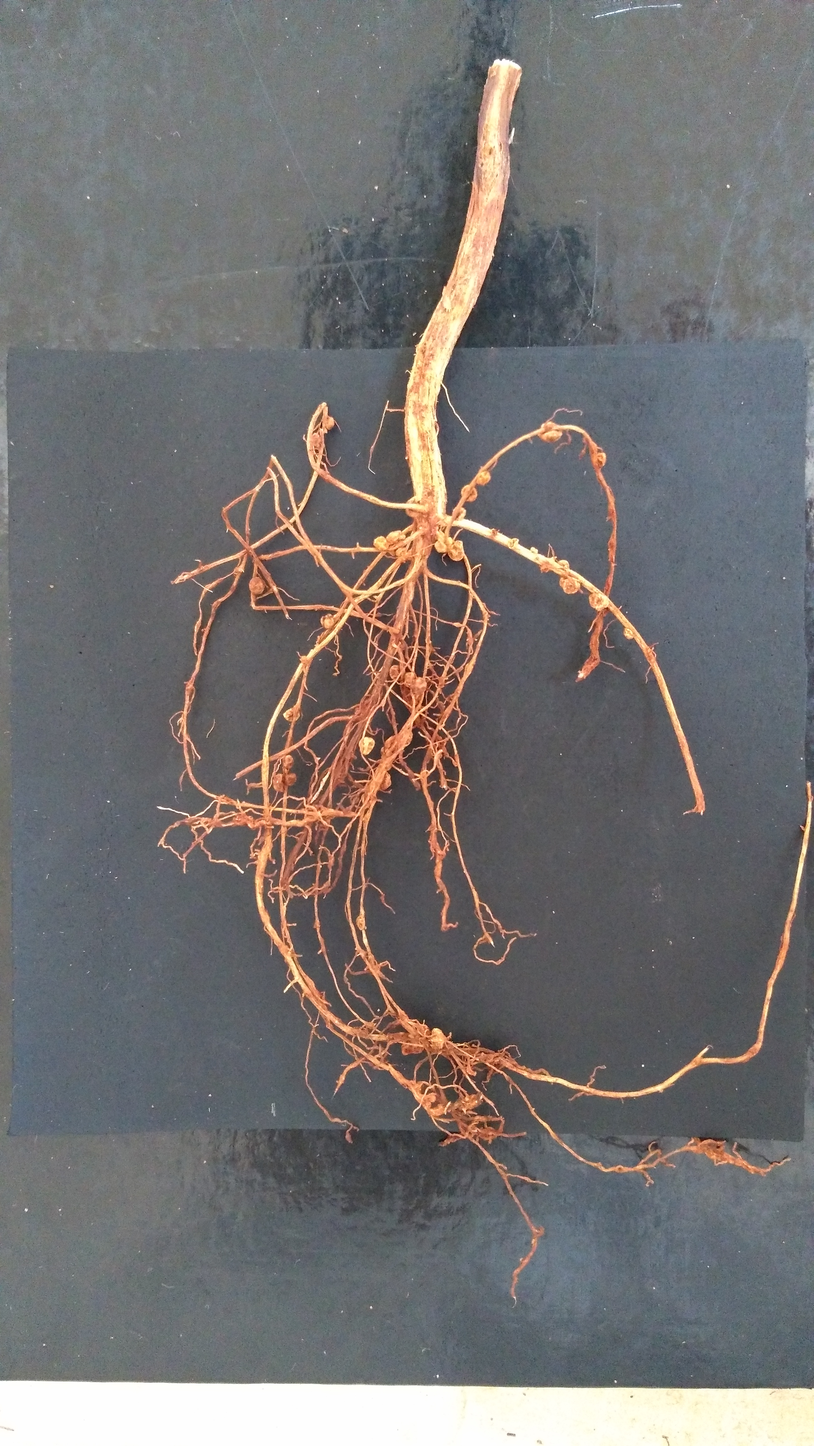nodule: (380, 729, 413, 758), (403, 671, 427, 695), (538, 421, 563, 443), (454, 1094, 483, 1110), (558, 575, 581, 595), (434, 530, 453, 553), (373, 768, 392, 790), (388, 539, 411, 557), (430, 1026, 447, 1050), (405, 496, 423, 518), (401, 1038, 425, 1054), (589, 593, 609, 612), (448, 540, 463, 562), (358, 736, 375, 755), (249, 576, 266, 595), (478, 1126, 499, 1140), (360, 792, 378, 808), (283, 706, 302, 721), (461, 484, 477, 501), (389, 664, 405, 681), (386, 530, 406, 543), (414, 1023, 432, 1037), (232, 814, 253, 826), (429, 1103, 447, 1117), (374, 535, 389, 551), (557, 559, 569, 578), (476, 470, 491, 485), (282, 772, 297, 787), (272, 774, 284, 792), (452, 506, 466, 521), (320, 613, 334, 628), (594, 451, 606, 468), (311, 432, 322, 449), (324, 415, 335, 430), (355, 914, 365, 930), (284, 754, 293, 769), (623, 627, 633, 640), (508, 537, 518, 549), (428, 1094, 436, 1103), (530, 546, 538, 553)
